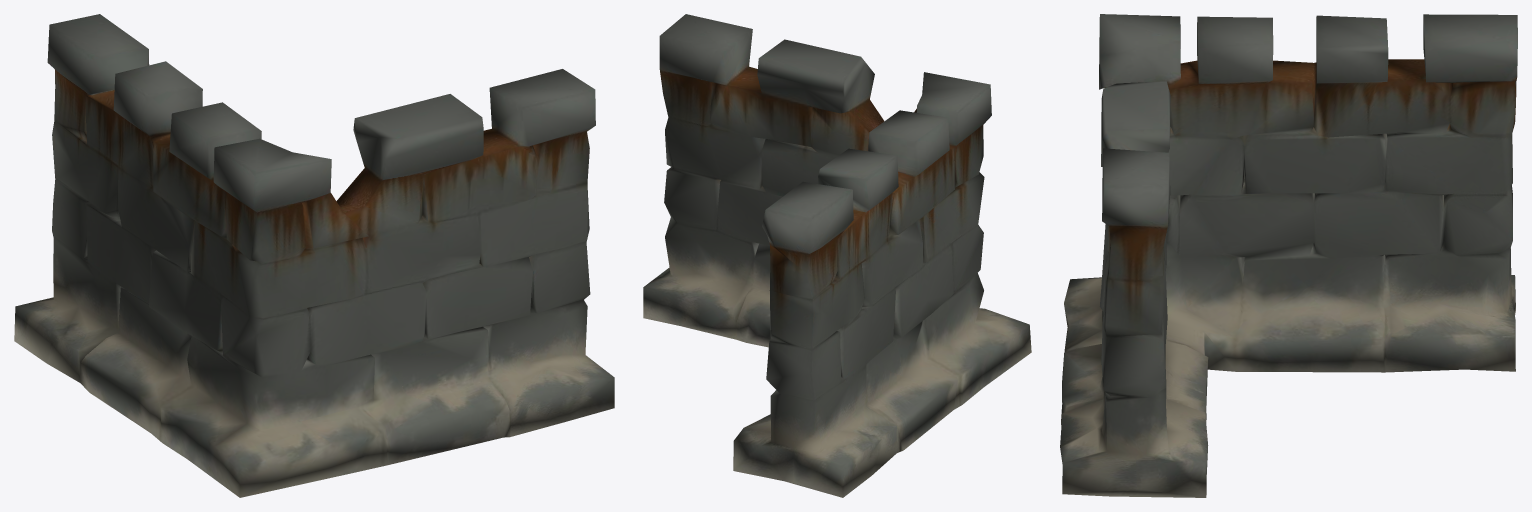
Rendered from drowned-wall-corner.glb.
3 renders of one model, left to right at view 1: azimuth 30°, elevation 25°; view 2: azimuth 150°, elevation 25°; view 3: azimuth 270°, elevation 25°, orthographic. The views are drawn at different scales.
Parts seen in each view (by area): view 1: tripo_node_006d1043-084e-487f-9eaf-79b1e5962fd5; view 2: tripo_node_006d1043-084e-487f-9eaf-79b1e5962fd5; view 3: tripo_node_006d1043-084e-487f-9eaf-79b1e5962fd5.
Boxes of the visible parts, x1,y1,x2,y2 form: tripo_node_006d1043-084e-487f-9eaf-79b1e5962fd5: (14, 14, 614, 497); tripo_node_006d1043-084e-487f-9eaf-79b1e5962fd5: (643, 14, 1031, 497); tripo_node_006d1043-084e-487f-9eaf-79b1e5962fd5: (1060, 14, 1517, 497).
Bounding box in the file's own units: 0.9572 × 0.7444 × 0.9792.
1 material, 1 textured.
